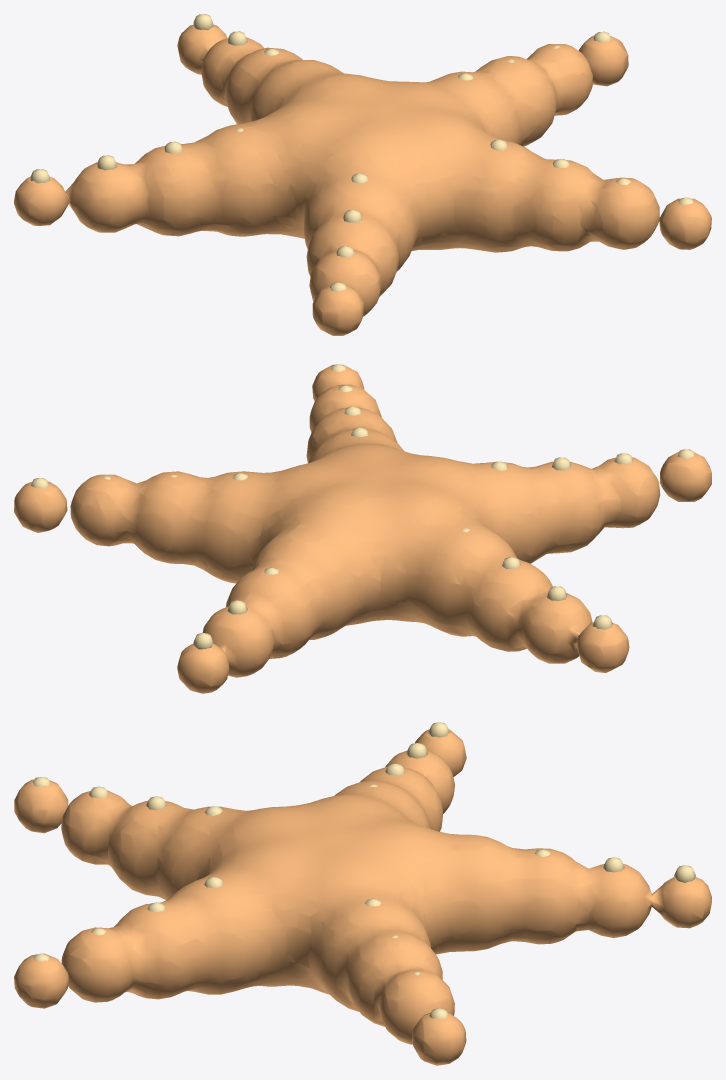
File: E28_Starfish.glb
3 views of the same model, one above another, from view 1: azimuth 30°, elevation 25°; view 2: azimuth 150°, elevation 25°; view 3: azimuth 270°, elevation 25° (orthographic). The views are drawn at different scales.
Visible parts, largest first — view 1: E28_Starfish_Mesh; view 2: E28_Starfish_Mesh; view 3: E28_Starfish_Mesh.
Boxes of the visible parts, x1,y1,x2,y2 form: E28_Starfish_Mesh: (14,14,711,335); E28_Starfish_Mesh: (14,364,711,693); E28_Starfish_Mesh: (14,722,711,1065).
Size of the model in its own units: 4.63 by 0.9431 by 4.41.
